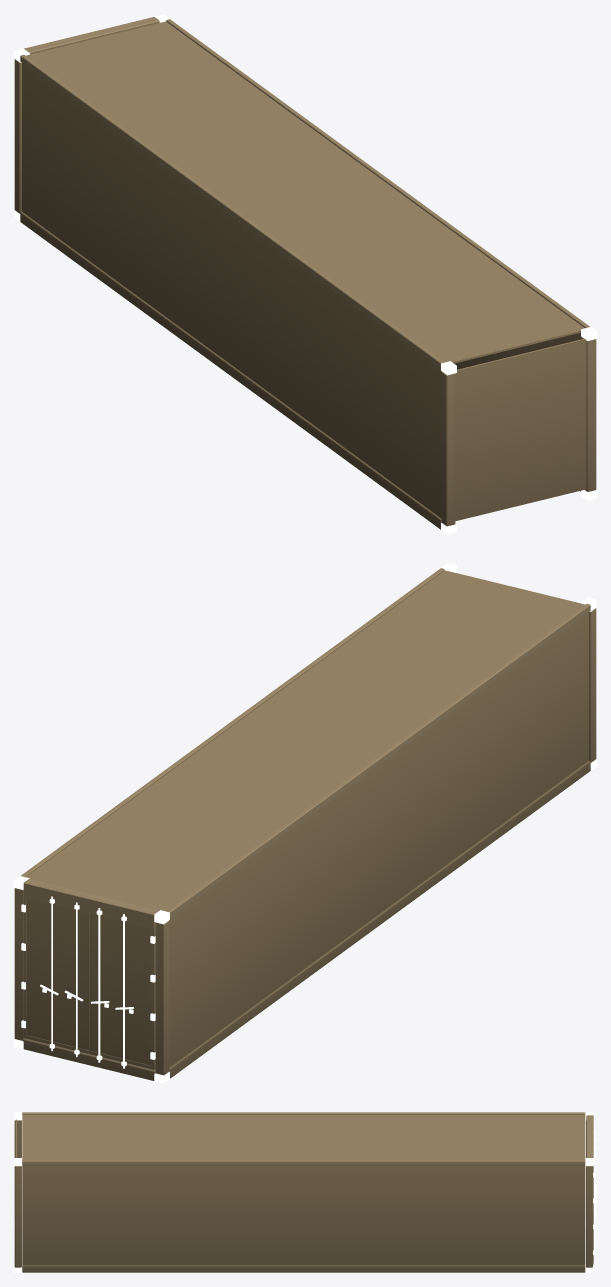
File: iso_container_40_tan.glb
The picture shows the model from 3 angles, top to bottom: view 1: azimuth 30°, elevation 25°; view 2: azimuth 150°, elevation 25°; view 3: azimuth 270°, elevation 25°; orthographic projection. The views are drawn at different scales.
Visible parts, largest first — view 1: iso_container_40_tan_LOD0; view 2: iso_container_40_tan_LOD0; view 3: iso_container_40_tan_LOD0.
Boxes of the visible parts, x1,y1,x2,y2 form: iso_container_40_tan_LOD0: [14, 14, 596, 534]; iso_container_40_tan_LOD0: [14, 563, 596, 1083]; iso_container_40_tan_LOD0: [14, 1112, 596, 1272].
Size of what is drawn, in the model's own units: 2.44 by 2.59 by 12.26.
